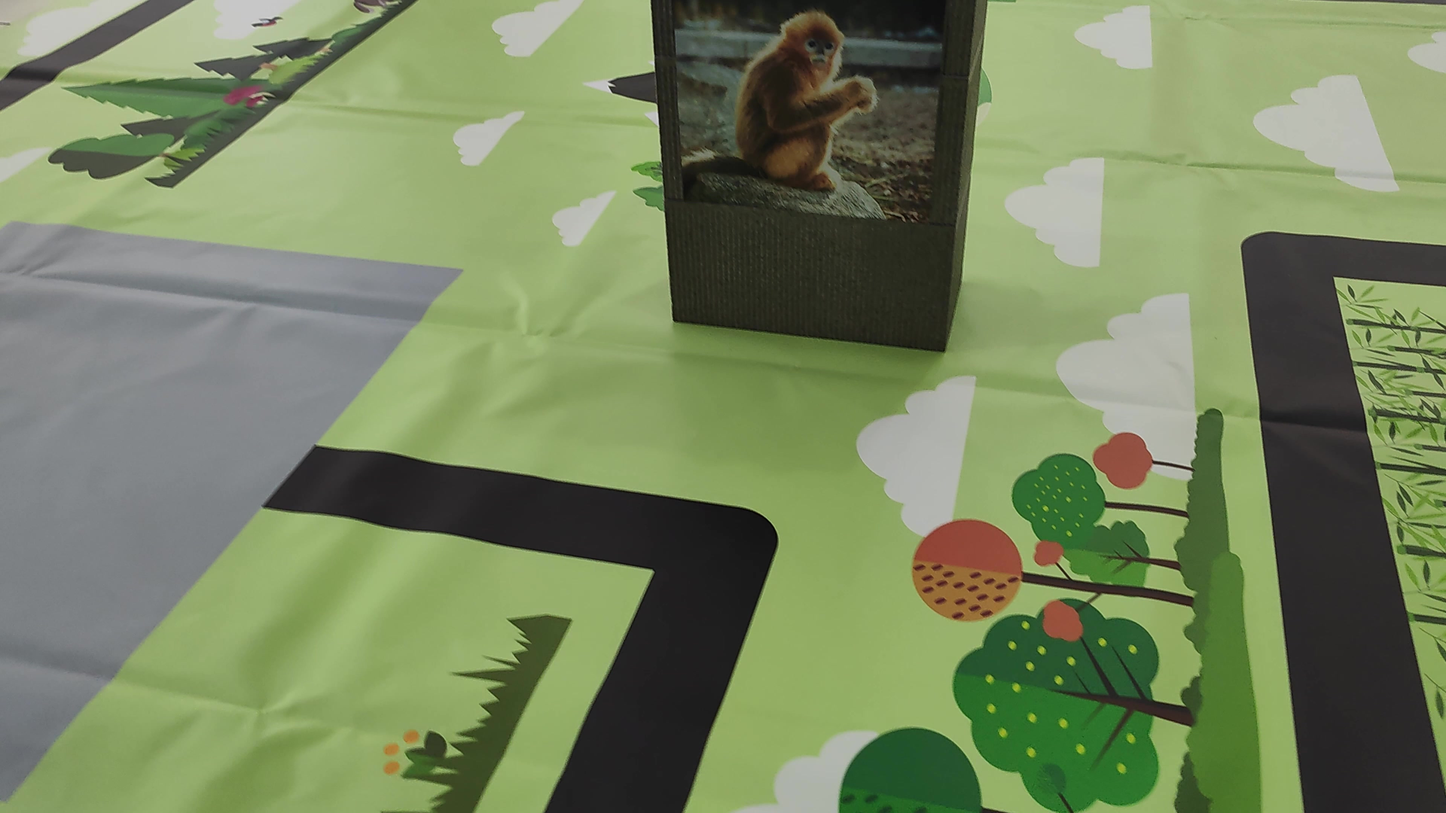monkey: (706, 12, 922, 220)
